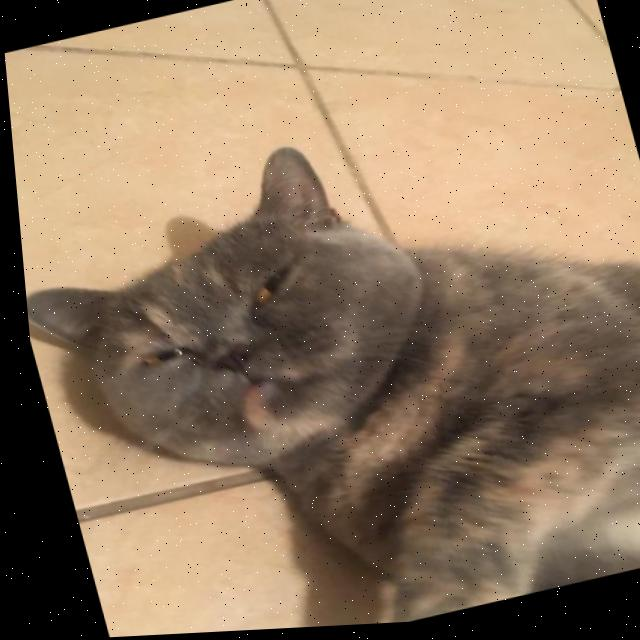Cats: (4, 26, 640, 640)
